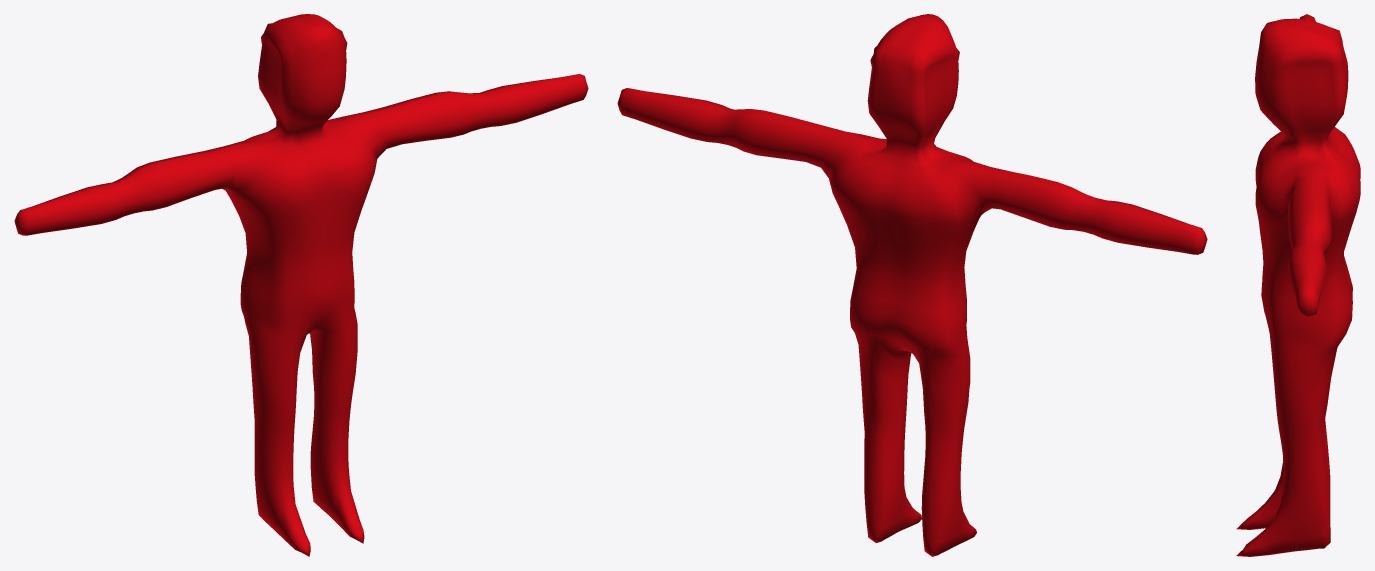
The model's file is mainchar_sopro_badsculp_badcolored.fbx.
The picture shows the model from 3 angles, left to right: view 1: azimuth 30°, elevation 25°; view 2: azimuth 150°, elevation 25°; view 3: azimuth 270°, elevation 25°; orthographic projection. The views are drawn at different scales.
Visible parts, largest first — view 1: Cube; view 2: Cube; view 3: Cube.
Boxes of the visible parts, x1,y1,x2,y2 form: Cube: (14,14,588,556); Cube: (617,14,1207,556); Cube: (1236,14,1360,556).
Bounding box in the file's own units: 2.89 × 2.47 × 0.5379.
